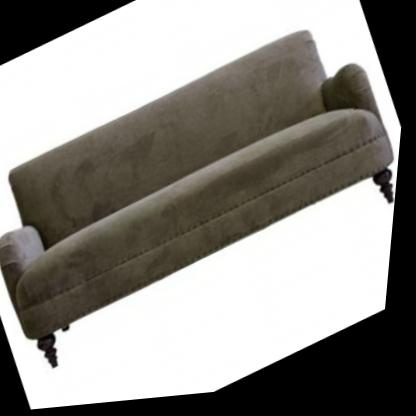Sofa: (0, 4, 413, 386)
